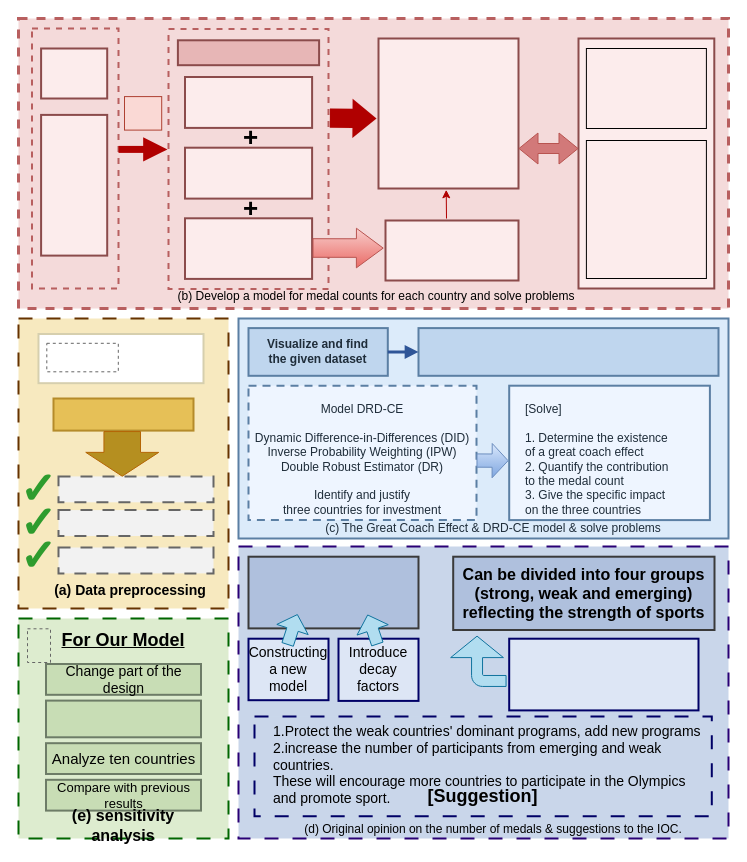
Image size: 747x862. Some labels were removed from this diagram. Each missing label, with the box of its shape:
Based on the number of medals awarded to the participating countries: (508, 637, 699, 711)
Inferring a possible "Great Coach Effect" from changes in medal data: (417, 327, 719, 376)
Official data sets: (52, 397, 194, 431)
Pre-host effect &Post-host effect: (247, 555, 419, 629)
Re-predicting the total number of medals: (44, 699, 202, 738)
